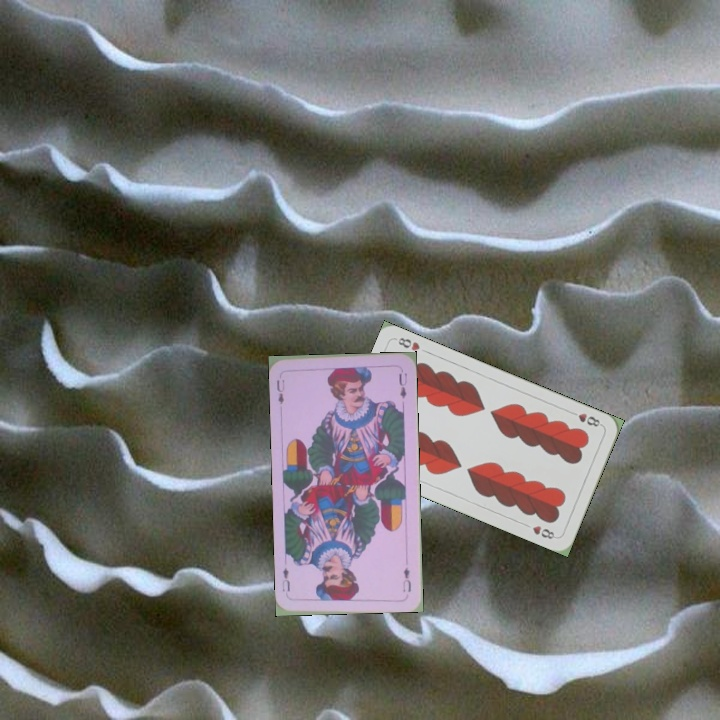EU: (398, 563, 414, 595), (272, 375, 287, 407)
H8: (566, 407, 605, 429)
